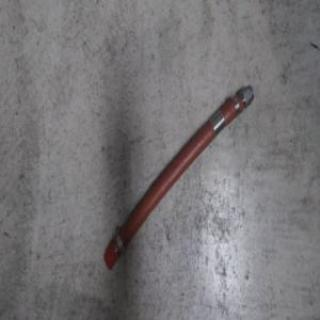Hosetrack_idkeyframe: (101, 81, 254, 273)
